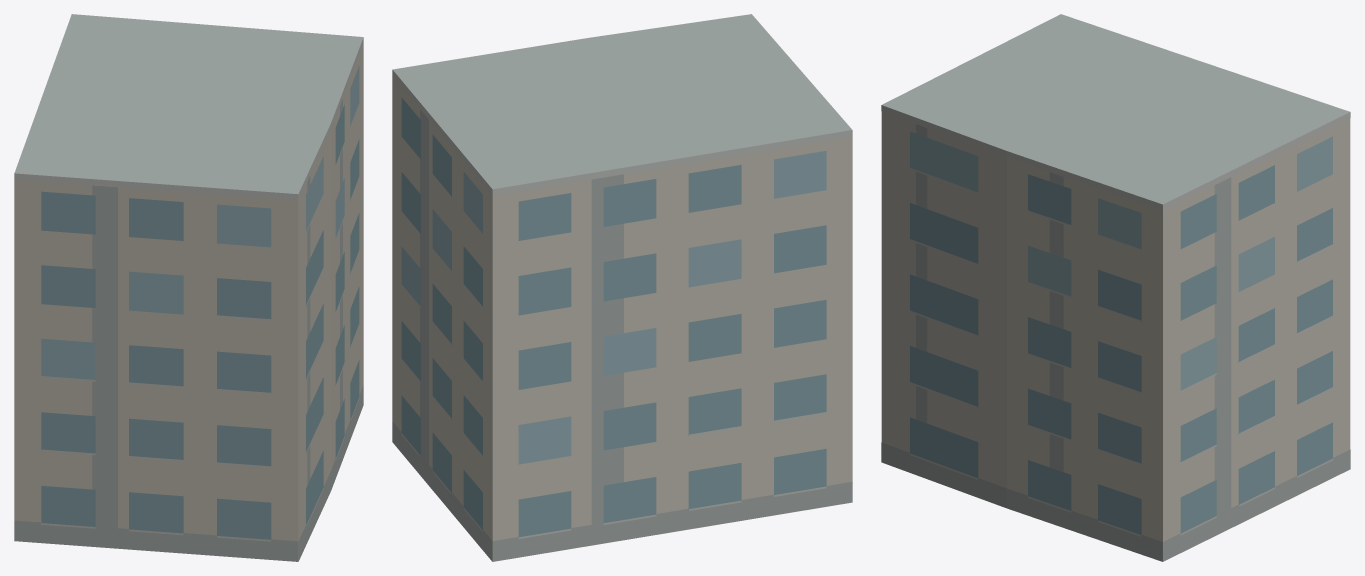
Rendered from survey-upis-32626560.glb.
The picture shows the model from 3 angles, left to right: view 1: azimuth 30°, elevation 25°; view 2: azimuth 150°, elevation 25°; view 3: azimuth 270°, elevation 25°; orthographic projection. The views are drawn at different scales.
Visible parts, largest first — view 1: survey-upis-32626560.tmp; view 2: survey-upis-32626560.tmp; view 3: survey-upis-32626560.tmp.
Part boxes in pixels (bbox=[...]): survey-upis-32626560.tmp: bbox=[14, 14, 363, 561]; survey-upis-32626560.tmp: bbox=[392, 14, 852, 561]; survey-upis-32626560.tmp: bbox=[881, 14, 1350, 561].
Size of the model in its own units: 15.7 by 13.73 by 16.34.
